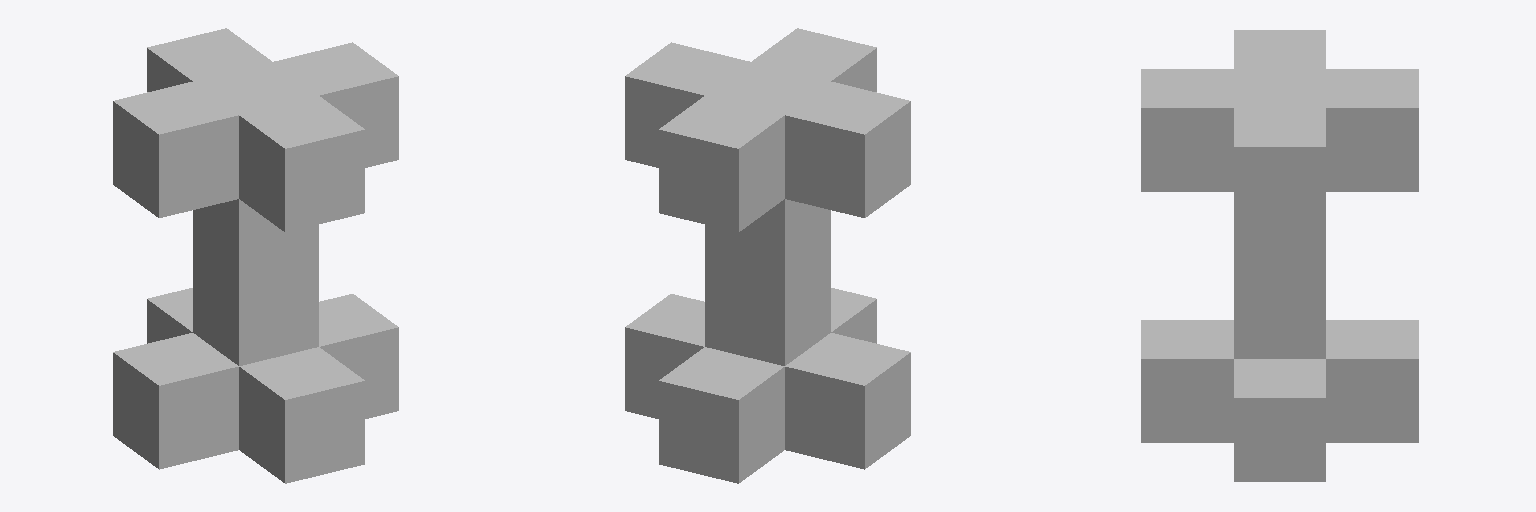
File: flowers-0.obj
The picture shows the model from 3 angles: view 1: azimuth 30°, elevation 25°; view 2: azimuth 150°, elevation 25°; view 3: azimuth 270°, elevation 25°; orthographic projection.
Visible parts, largest first — view 1: object 1; view 2: object 1; view 3: object 1.
Boxes of the visible parts, x1,y1,x2,y2 form: object 1: [113, 28, 398, 483]; object 1: [625, 28, 910, 483]; object 1: [1141, 30, 1418, 481].
Bounding box in the file's own units: 0.3 × 0.4 × 0.3.